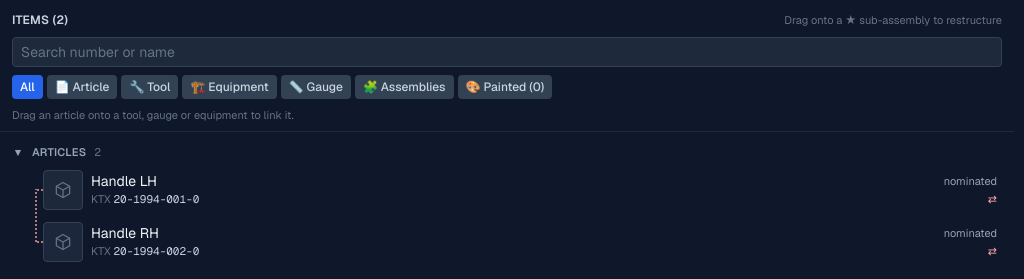
Scenario: ItemsPane › mirror connectors › draws no connectors when the partner is filtered out
Type "RH" into the search field named "Search items". click: (507, 52)
box: [12,36,1002,66]
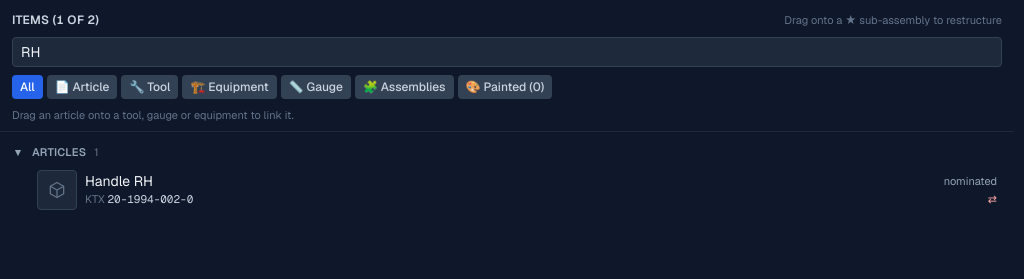
Check: the element with test id "mirror-seg-2-0-start" is gone
